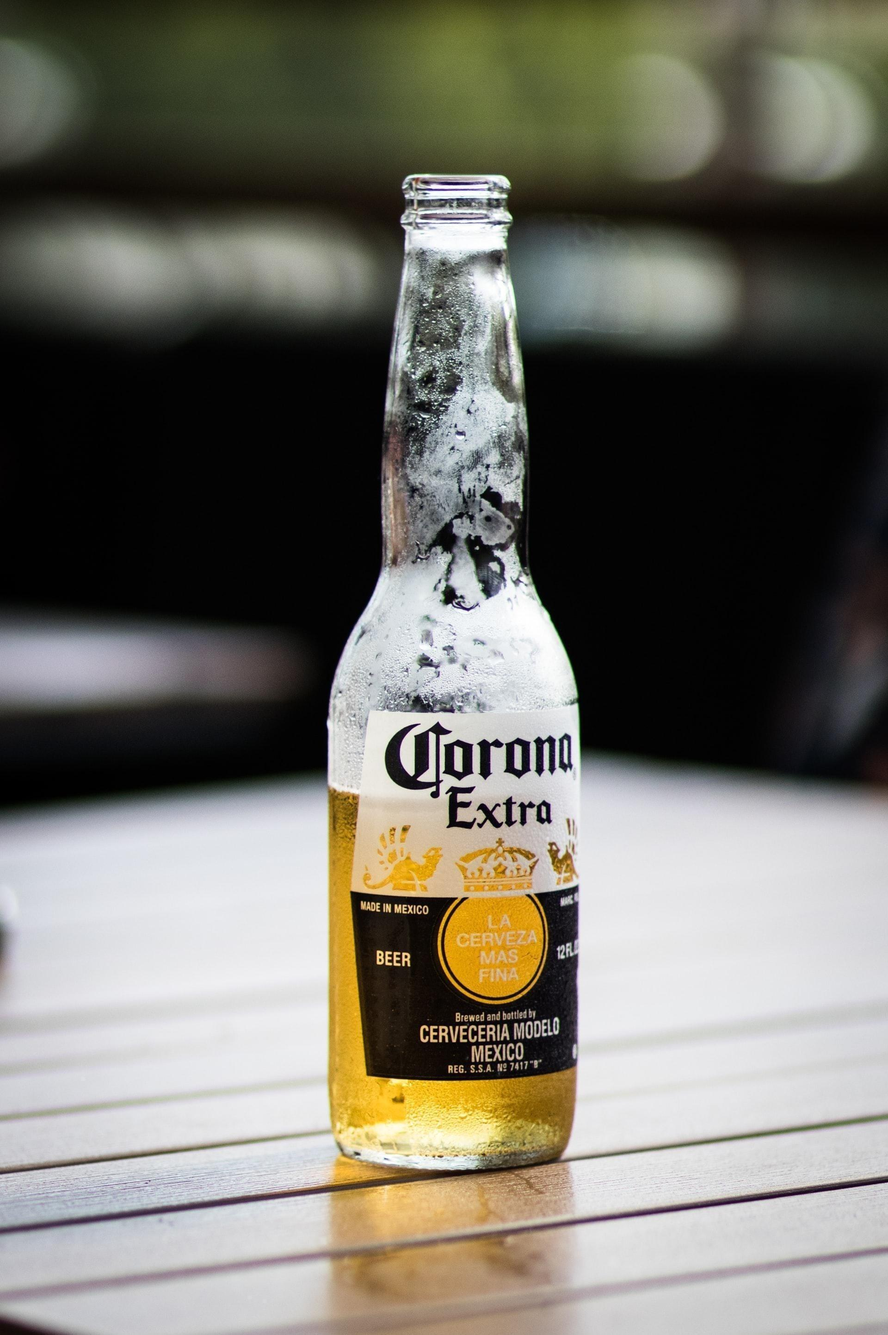bottle-glass: (314, 163, 594, 1189)
